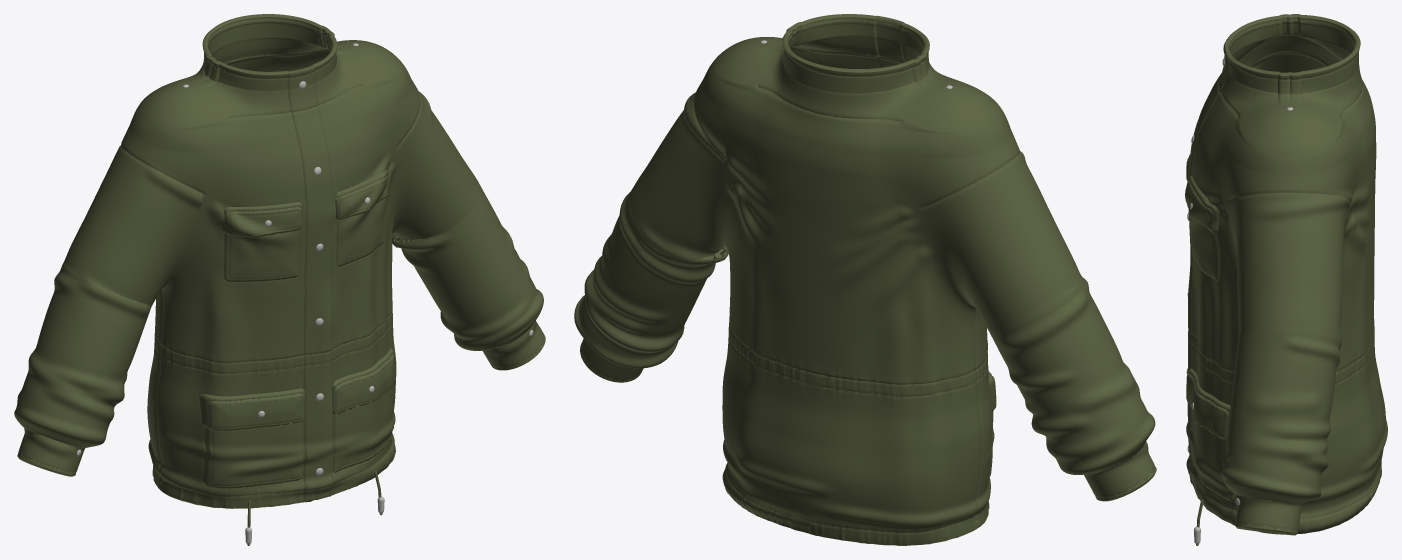
Rendered from 11_chaqueta_utility.glb.
3 renders of one model, left to right at view 1: azimuth 30°, elevation 25°; view 2: azimuth 150°, elevation 25°; view 3: azimuth 270°, elevation 25°, orthographic. The views are drawn at different scales.
Parts seen in each view (by area): view 1: body, hardware; view 2: body; view 3: body, hardware.
Boxes of the visible parts, x1,y1,x2,y2 form: body: (14,14,545,508); hardware: (76,43,533,544); body: (574,14,1156,545); body: (1185,14,1387,535); hardware: (1186,58,1292,544).
Bounding box in the file's own units: 1.01 × 0.848 × 0.3307.
